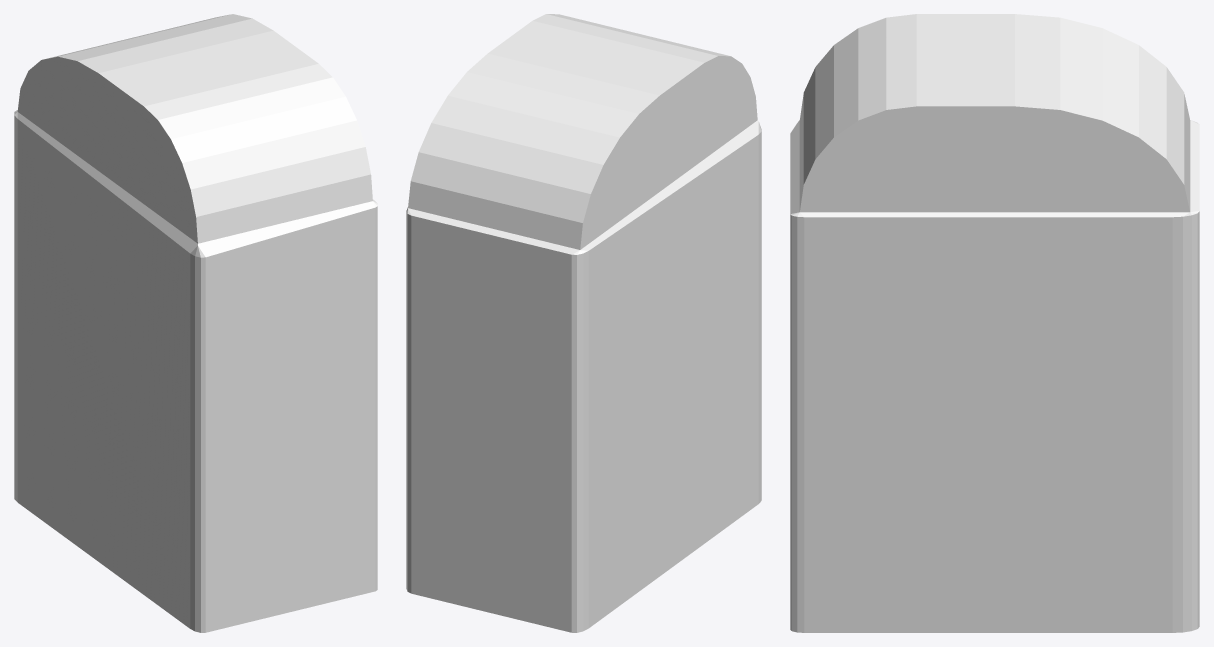
File: Eraser.fbx
3 views of the same model, side by side, from view 1: azimuth 30°, elevation 25°; view 2: azimuth 150°, elevation 25°; view 3: azimuth 270°, elevation 25° (orthographic). The views are drawn at different scales.
Visible parts, largest first — view 1: Cube; view 2: Cube; view 3: Cube.
Part boxes in pixels (<box>): Cube: <box>14,14,377,632</box>; Cube: <box>406,14,761,632</box>; Cube: <box>790,14,1199,632</box>.
Bounding box in the file's own units: 118 × 296 × 210.
